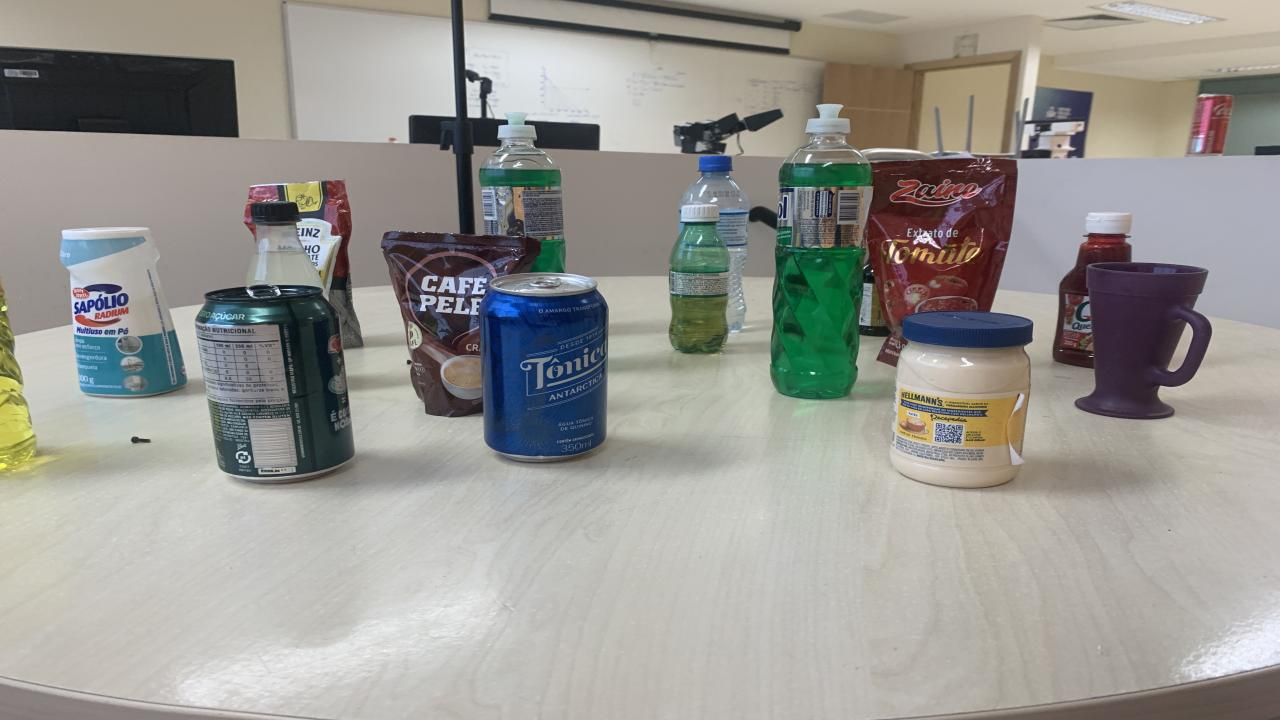Cleaner-Cleanup_Items: (60, 227, 188, 398)
Coffee-Pantry_Items: (382, 232, 540, 416)
Detergent-Cleanup_Items: (770, 105, 872, 399), (480, 112, 565, 272), (0, 281, 35, 469)
English_Sauce-Pantry_Items: (860, 262, 890, 336)
Guarana-Drinks: (670, 202, 730, 352)
Guarana_Can-Drinks: (195, 285, 355, 484)
Ketchup-Pantry_Items: (1052, 212, 1132, 368)
Mayonnaise-Pantry_Items: (890, 311, 1032, 488)
Soda-Drinks: (248, 201, 322, 289)
Tomato_Sauce-Pantry_Items: (868, 158, 1018, 366), (242, 180, 362, 347)
Tonic-Drinks: (480, 274, 608, 461)
Water_Bottle-Drinks: (680, 156, 750, 332)
